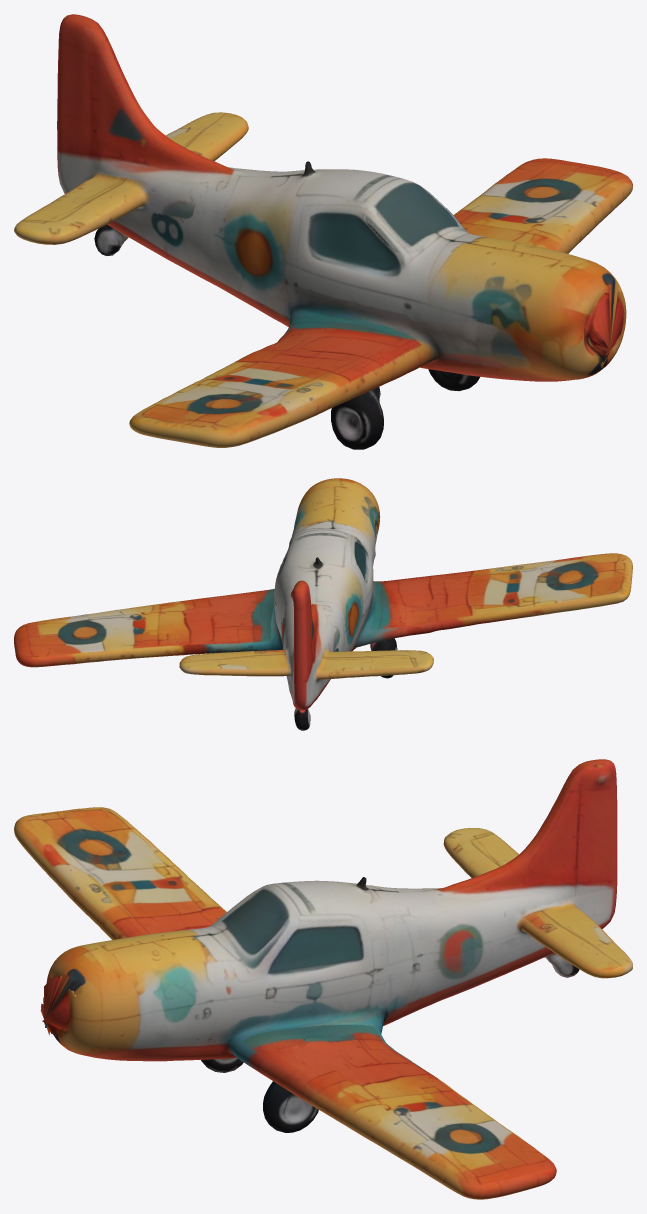
3 renders of one model, top to bottom at view 1: azimuth 30°, elevation 25°; view 2: azimuth 150°, elevation 25°; view 3: azimuth 270°, elevation 25°, orthographic. The views are drawn at different scales.
Parts seen in each view (by area): view 1: tripo_node_2c6a6ce1-09a2-4bb1-b87d-47feb28e7e78; view 2: tripo_node_2c6a6ce1-09a2-4bb1-b87d-47feb28e7e78; view 3: tripo_node_2c6a6ce1-09a2-4bb1-b87d-47feb28e7e78.
Boxes of the visible parts, x1,y1,x2,y2 form: tripo_node_2c6a6ce1-09a2-4bb1-b87d-47feb28e7e78: (14, 14, 632, 449); tripo_node_2c6a6ce1-09a2-4bb1-b87d-47feb28e7e78: (14, 478, 632, 730); tripo_node_2c6a6ce1-09a2-4bb1-b87d-47feb28e7e78: (14, 759, 632, 1199).
Bounding box in the file's own units: 94.96 × 39.12 × 79.
